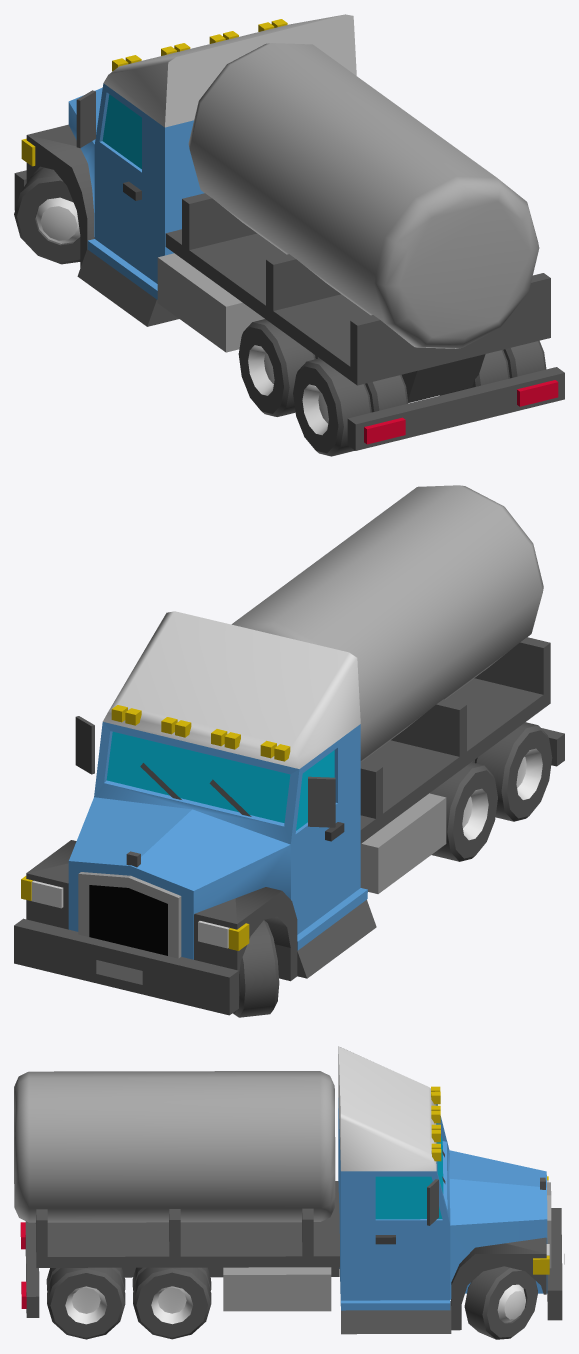
The model's file is track_4.fbx.
The picture shows the model from 3 angles, top to bottom: view 1: azimuth 30°, elevation 25°; view 2: azimuth 150°, elevation 25°; view 3: azimuth 270°, elevation 25°; orthographic projection. The views are drawn at different scales.
Parts seen in each view (by area): view 1: track_4; view 2: track_4; view 3: track_4.
Boxes of the visible parts, x1,y1,x2,y2 form: track_4: (14, 14, 564, 456); track_4: (14, 485, 564, 1017); track_4: (14, 1046, 564, 1339).
Size of the model in its own units: 543 by 556 by 1250.
